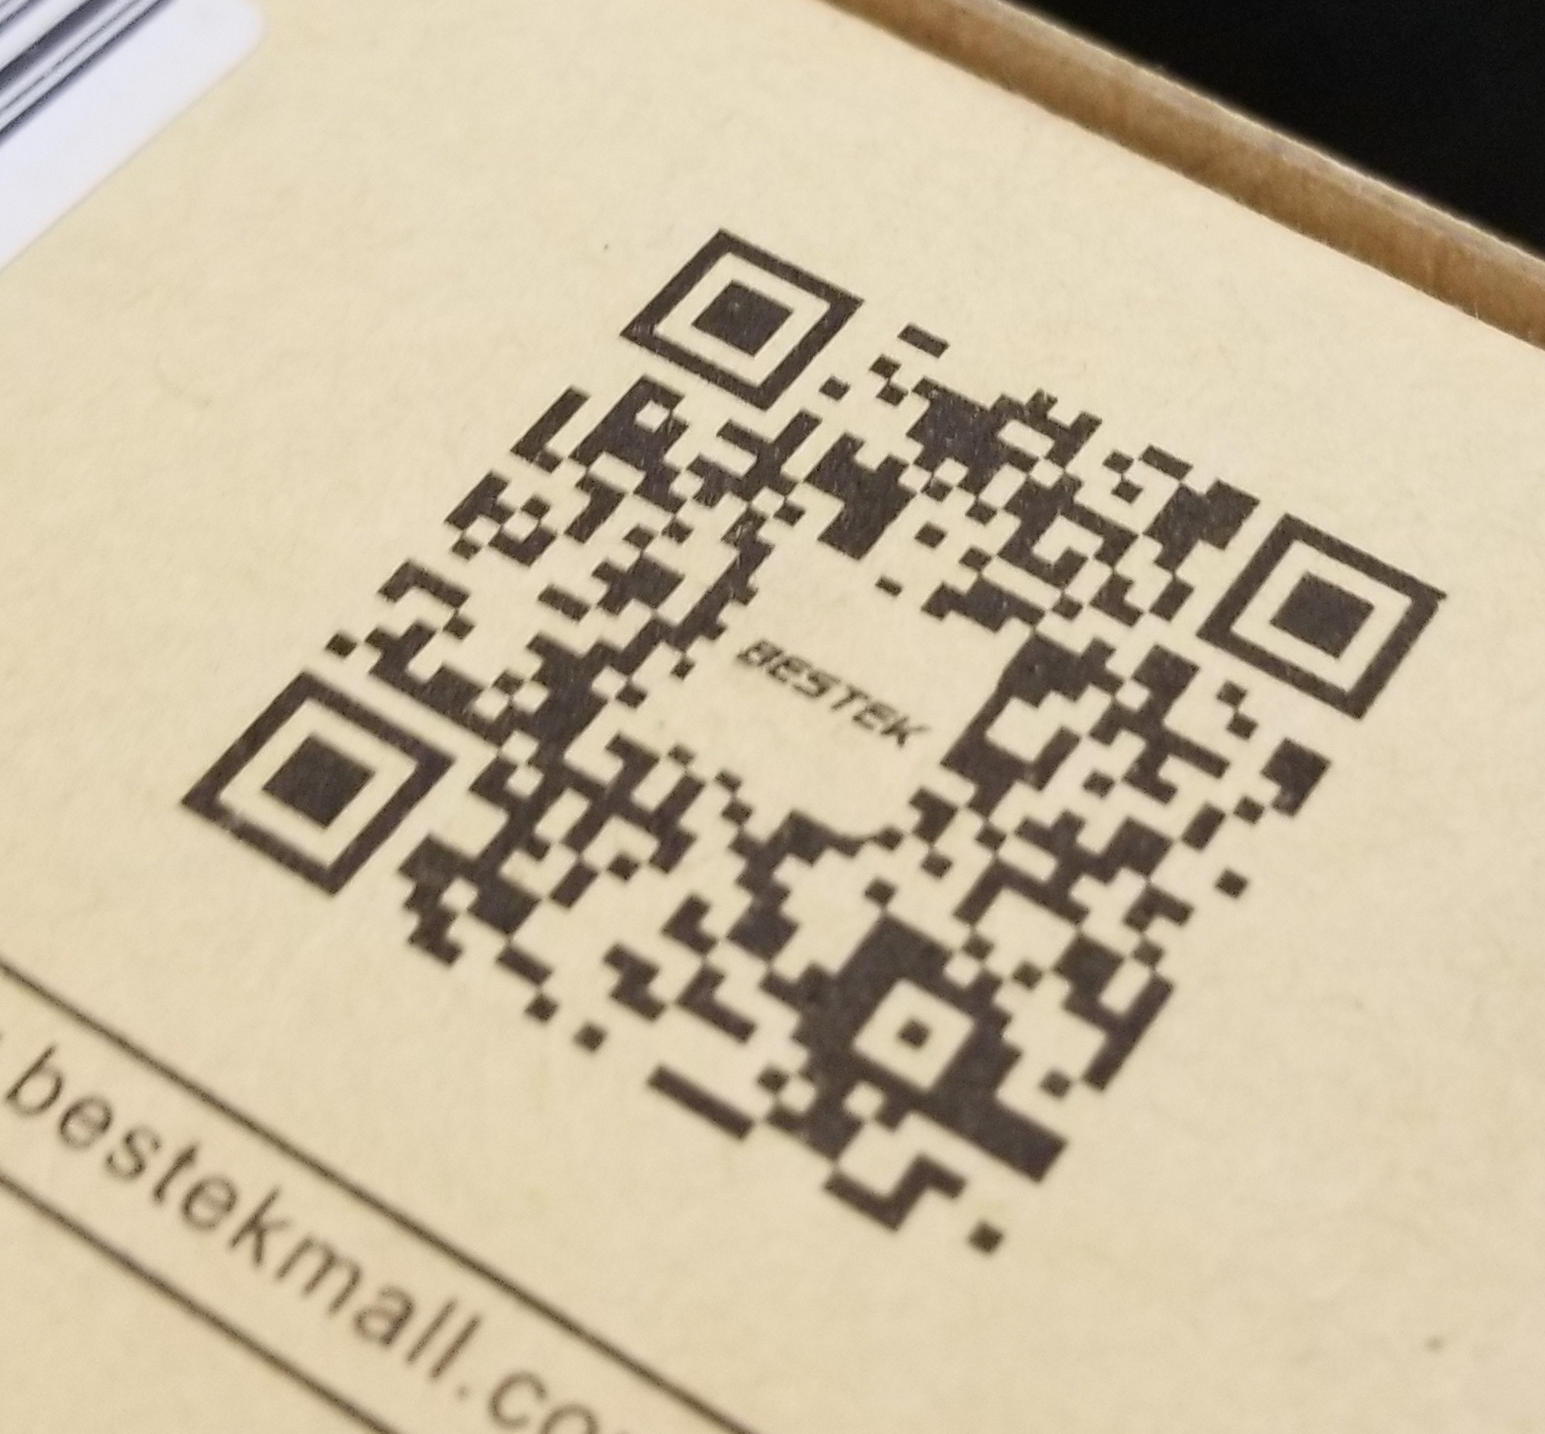QR_CODE: (150, 185, 1457, 1286)
